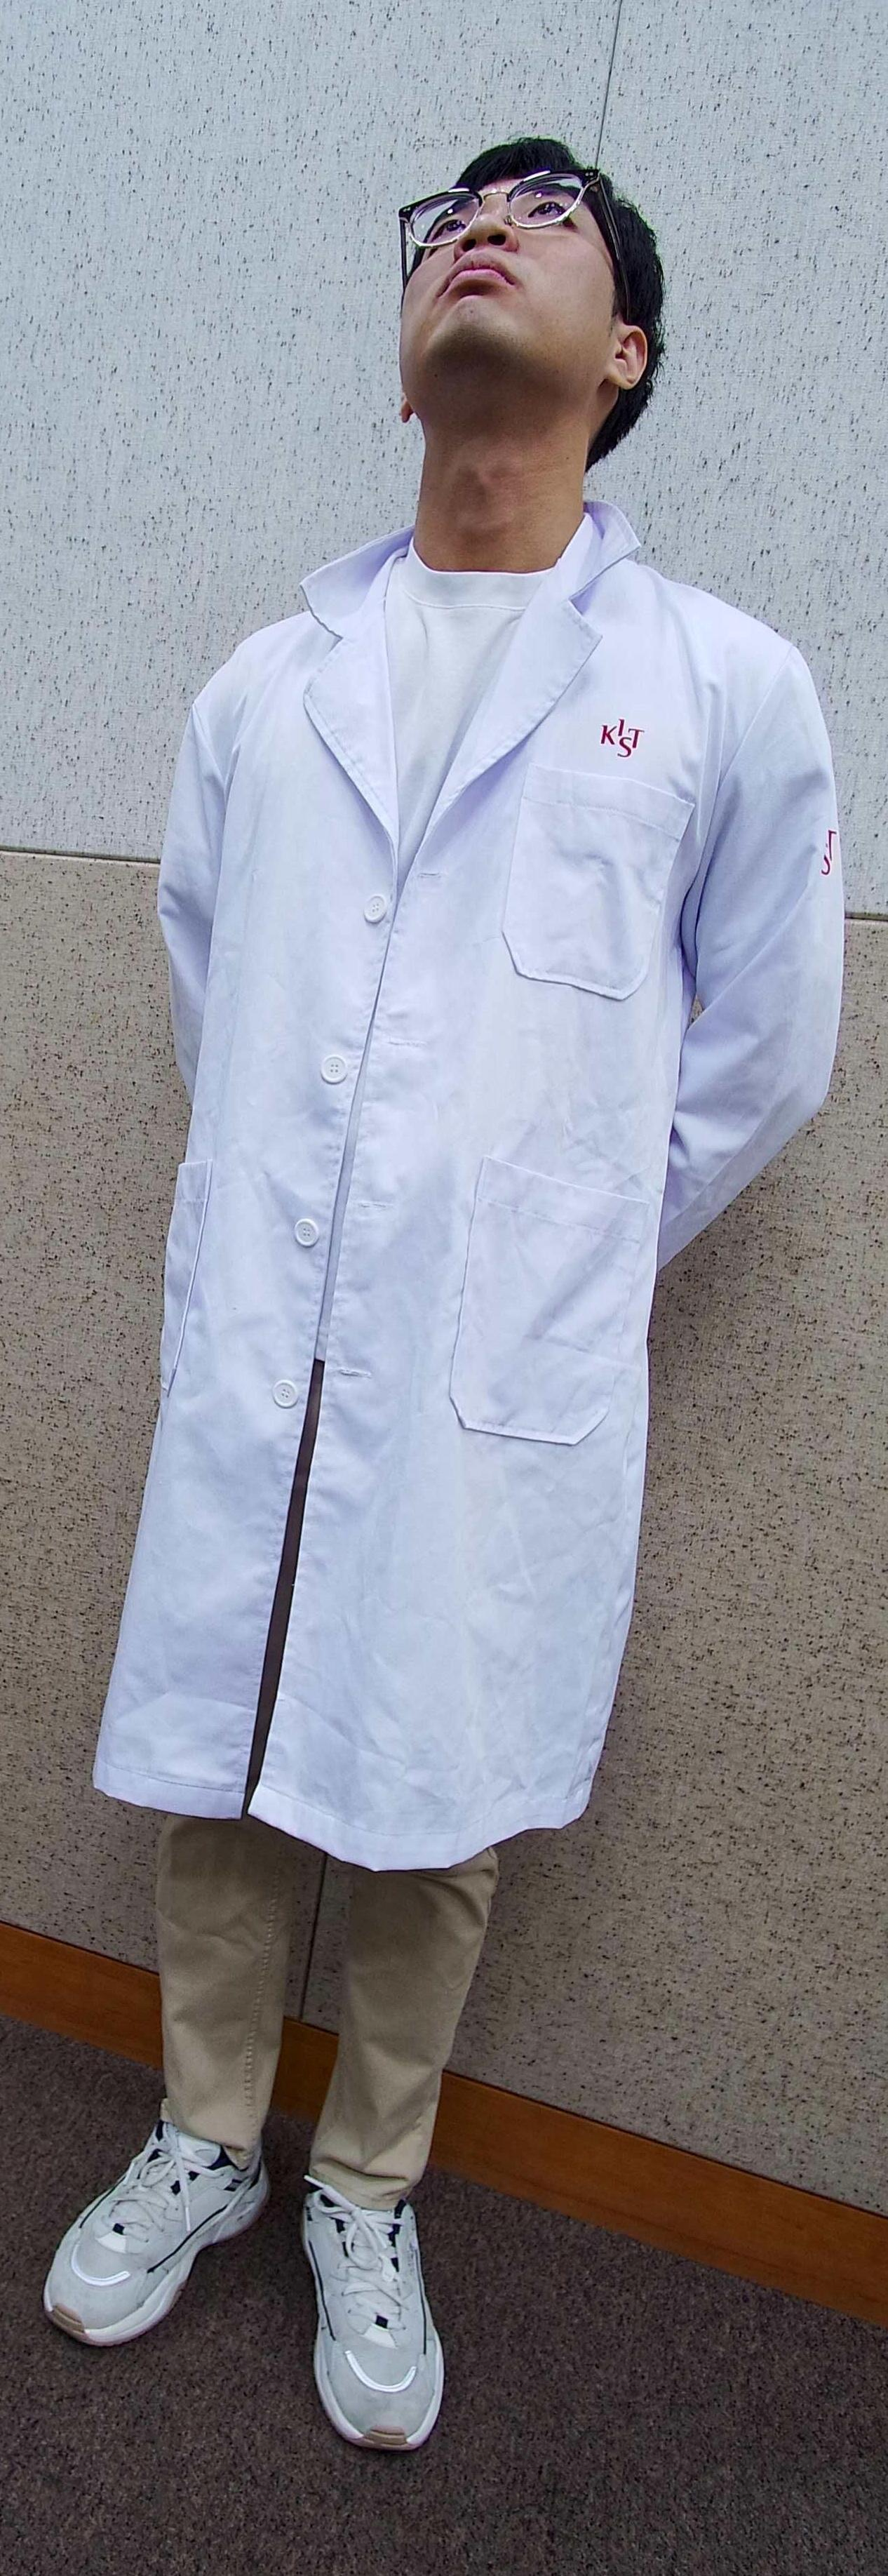lab_coat: (108, 619, 703, 1853)
